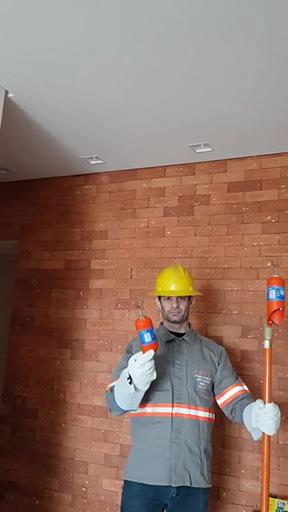Detector_Tensao_Contato: (264, 260, 288, 329), (131, 298, 157, 358)
Vara_Manobra: (258, 325, 273, 512)
